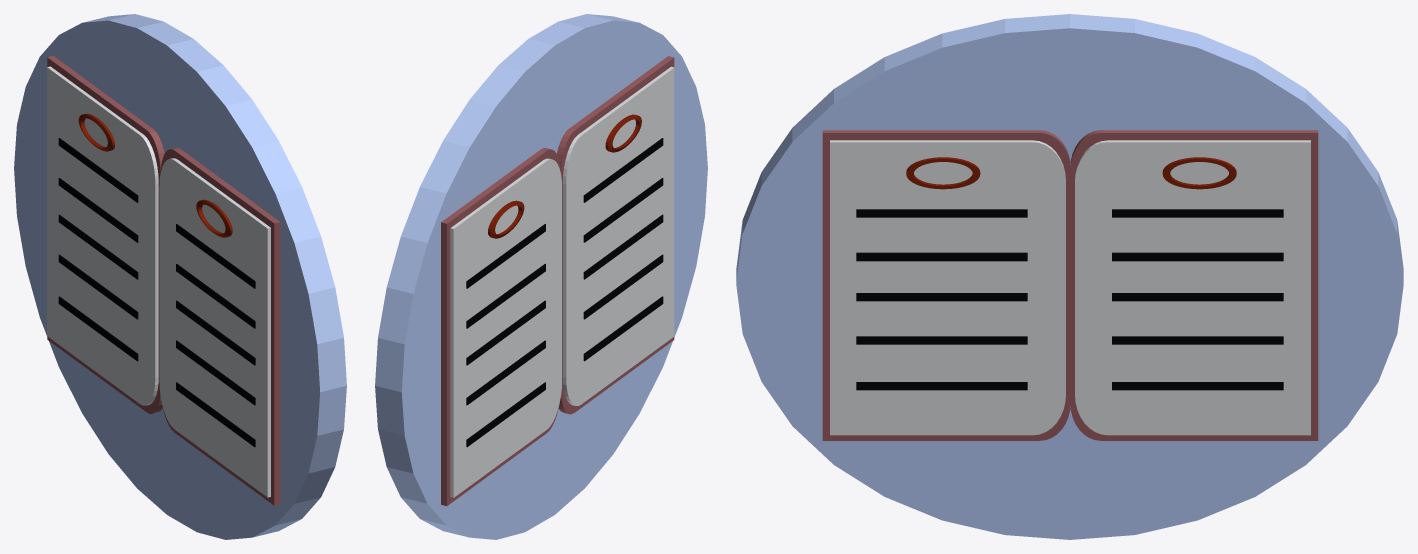
The model's file is Educacion.glb.
3 views of the same model, side by side, from view 1: azimuth 30°, elevation 25°; view 2: azimuth 150°, elevation 25°; view 3: azimuth 270°, elevation 25° (orthographic). The views are drawn at different scales.
Visible parts, largest first — view 1: Circle, Cube.004, Cube.001, Cube.002, Cube.003, Linea.007, Linea.005, Linea.006, Linea.009, Linea.008, Linea.003, Linea.001 (+5 smaller); view 2: Circle, Cube.001, Cube.004, Cube.003, Cube.002, Linea, Linea.002, Linea.003, Linea.004, Linea.001, Linea.006, Linea.008 (+5 smaller); view 3: Circle, Cube.001, Cube.004, Cube.002, Cube.003, Linea.001, Linea.008, Linea, Linea.002, Linea.003, Linea.004, Linea.005 (+5 smaller).
Boxes of the visible parts, x1,y1,x2,y2 form: Circle: (14,14,346,539); Cube.004: (47,66,158,405); Cube.001: (159,158,270,497); Cube.002: (160,147,280,505); Cube.003: (47,56,164,413); Linea.007: (58,214,138,279); Linea.005: (58,296,138,361); Linea.006: (58,254,138,319); Linea.009: (58,138,138,202); Linea.008: (58,178,138,242); Linea.003: (176,340,255,405); Linea.001: (176,264,255,328); Circle: (375,14,707,539); Cube.001: (562,66,674,405); Cube.004: (450,158,561,497); Cube.003: (441,148,560,505); Cube.002: (556,56,674,414); Linea: (583,138,663,202); Linea.002: (583,214,663,279); Linea.003: (583,254,663,319); Linea.004: (583,296,663,361); Linea.001: (583,178,663,242); Linea.006: (466,340,545,405); Linea.008: (466,263,545,328); Circle: (736,14,1403,539); Cube.001: (830,140,1065,435); Cube.004: (1075,140,1310,435); Cube.002: (822,130,1070,440); Cube.003: (1070,130,1318,440); Linea.001: (856,252,1027,261); Linea.008: (1112,252,1283,261); Linea: (856,209,1027,217); Linea.002: (856,293,1027,301); Linea.003: (856,336,1027,344); Linea.004: (856,382,1027,390); Linea.005: (1112,382,1283,390).
Bounding box in the file's own units: 0.3541 × 3.06 × 3.61.
